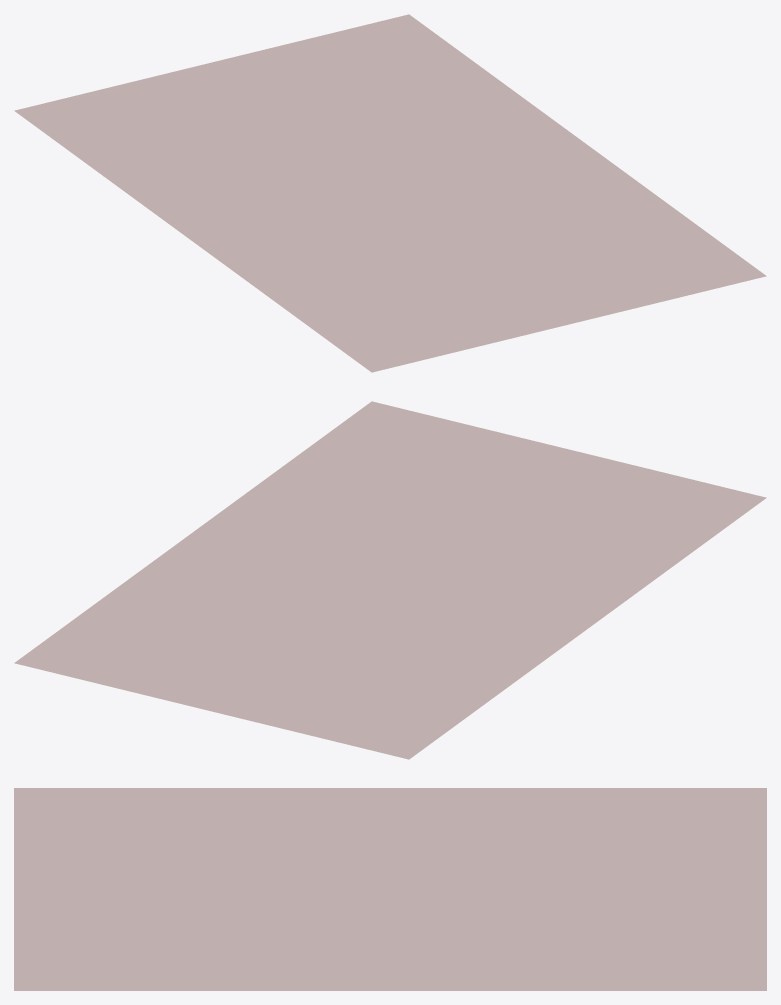
The model's file is ClassRoom_Roof.fbx.
3 renders of one model, top to bottom at view 1: azimuth 30°, elevation 25°; view 2: azimuth 150°, elevation 25°; view 3: azimuth 270°, elevation 25°, orthographic. The views are drawn at different scales.
Visible parts, largest first — view 1: Roof; view 2: Roof; view 3: Roof.
Part boxes in pixels (left/top/right/bottom): Roof: left=14, top=14, right=766, bottom=372; Roof: left=14, top=401, right=766, bottom=759; Roof: left=14, top=788, right=766, bottom=990.
Bounding box in the file's own units: 447 × 1.53e-05 × 700.
1 material, 1 textured.
